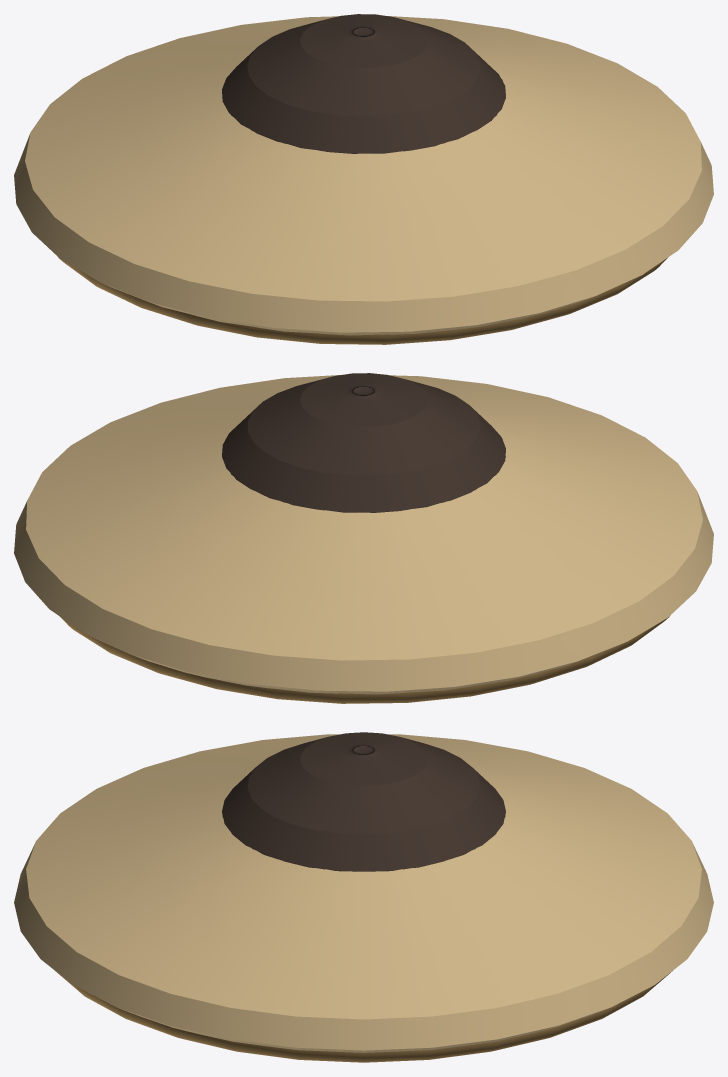
The model's file is SP-AMR-entry.glb.
The picture shows the model from 3 angles, top to bottom: view 1: azimuth 30°, elevation 25°; view 2: azimuth 150°, elevation 25°; view 3: azimuth 270°, elevation 25°; orthographic projection.
Visible parts, largest first — view 1: flexible_TPS, nose, inflatable_torus_4; view 2: flexible_TPS, nose, inflatable_torus_4; view 3: flexible_TPS, nose, inflatable_torus_4.
Part boxes in pixels (x1,y1,x2,y2): flexible_TPS: (14, 16, 713, 335); nose: (222, 14, 505, 153); inflatable_torus_4: (57, 256, 667, 344); flexible_TPS: (14, 375, 713, 694); nose: (222, 373, 505, 512); inflatable_torus_4: (60, 615, 670, 703); flexible_TPS: (14, 734, 713, 1052); nose: (222, 732, 505, 871); inflatable_torus_4: (55, 971, 672, 1062).
Bounding box in the file's own units: 1.21 × 0.4503 × 1.21.
